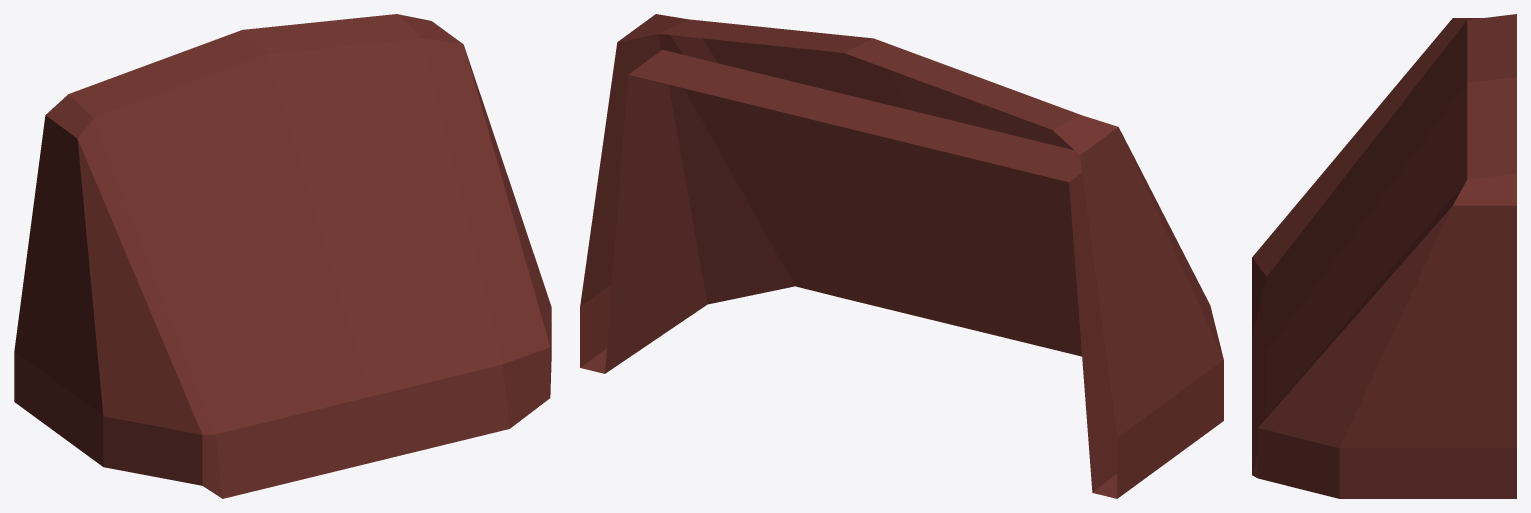
The model's file is SM_Bld_Cover_02.fbx.
The picture shows the model from 3 angles, left to right: view 1: azimuth 30°, elevation 25°; view 2: azimuth 150°, elevation 25°; view 3: azimuth 270°, elevation 25°; orthographic projection. The views are drawn at different scales.
Parts seen in each view (by area): view 1: SM_Bld_Cover_02; view 2: SM_Bld_Cover_02; view 3: SM_Bld_Cover_02.
Boxes of the visible parts, left/top/right/bottom form: SM_Bld_Cover_02: left=14, top=14, right=551, bottom=498; SM_Bld_Cover_02: left=580, top=14, right=1223, bottom=498; SM_Bld_Cover_02: left=1252, top=14, right=1516, bottom=498.
Bounding box in the file's own units: 137 × 97.41 × 70.12.
